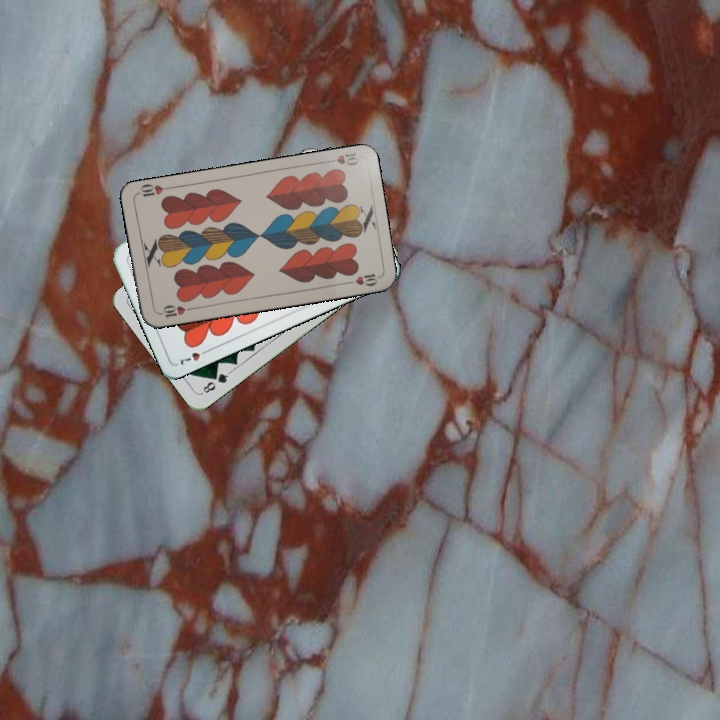G8: (198, 368, 233, 396)
H10: (154, 301, 195, 320), (321, 149, 361, 168)
H7: (176, 345, 213, 367)
